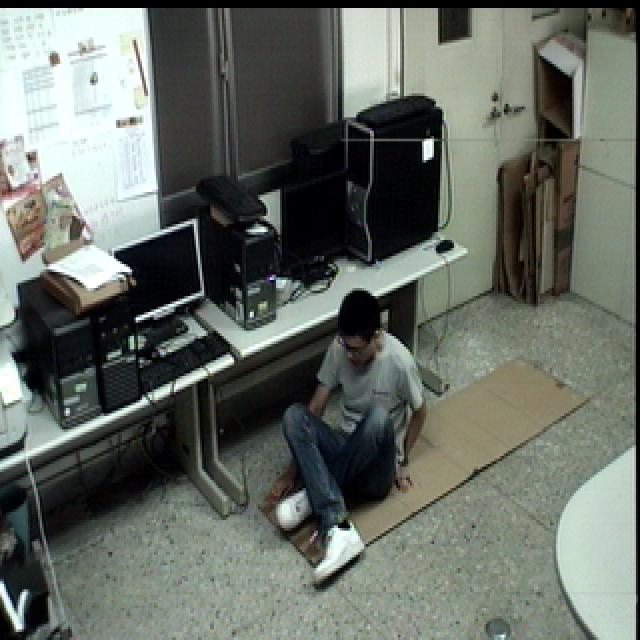sit: (266, 284, 426, 585)
